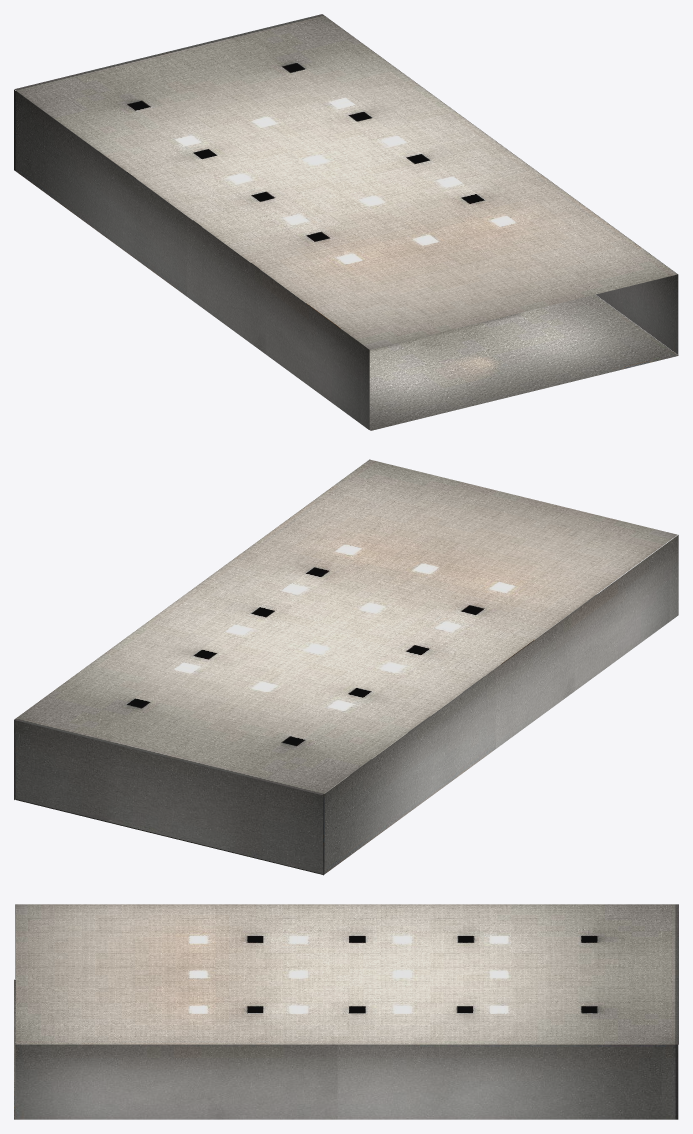
Rendered from background-2.glb.
3 renders of one model, top to bottom at view 1: azimuth 30°, elevation 25°; view 2: azimuth 150°, elevation 25°; view 3: azimuth 270°, elevation 25°, orthographic. The views are drawn at different scales.
Parts seen in each view (by area): view 1: Background_Scene; view 2: Background_Scene; view 3: Background_Scene.
Part boxes in pixels (bbox=[...]): Background_Scene: bbox=[14, 14, 678, 430]; Background_Scene: bbox=[14, 459, 678, 875]; Background_Scene: bbox=[14, 904, 678, 1119].
Size of the model in its own units: 20.04 by 5.07 by 40.12.
1 material, 1 textured.
